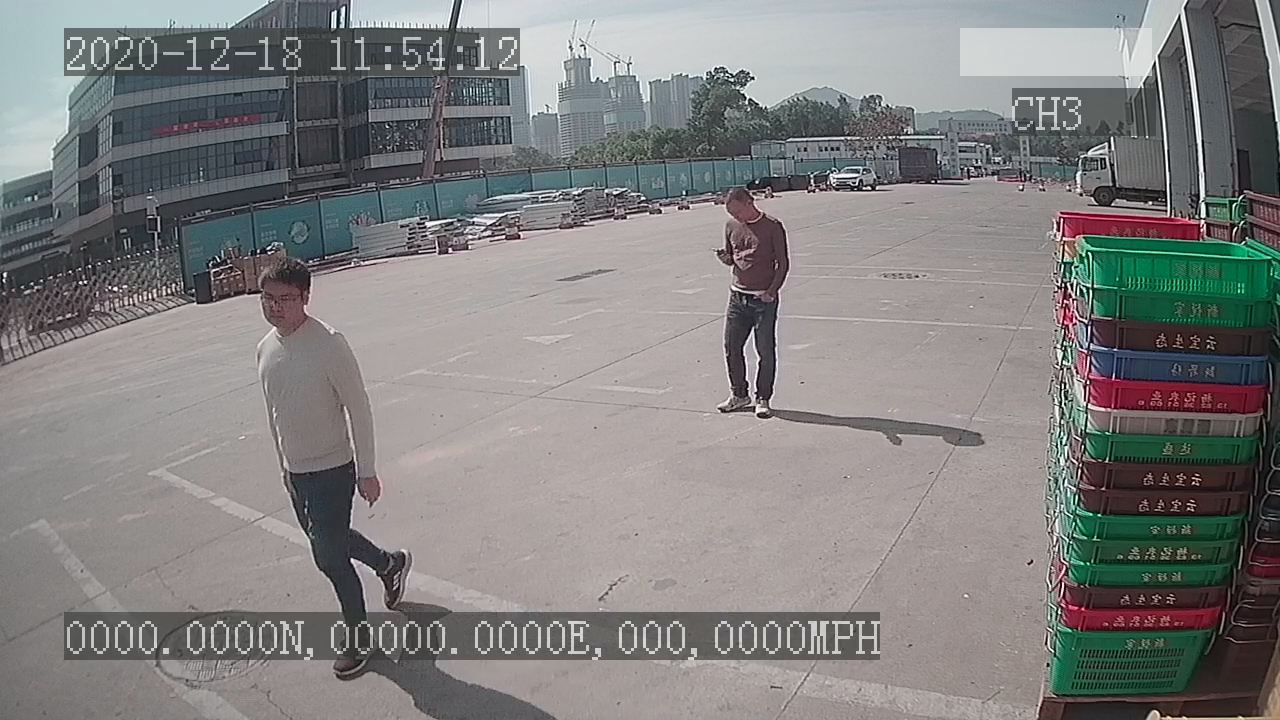person: (702, 177, 792, 426)
